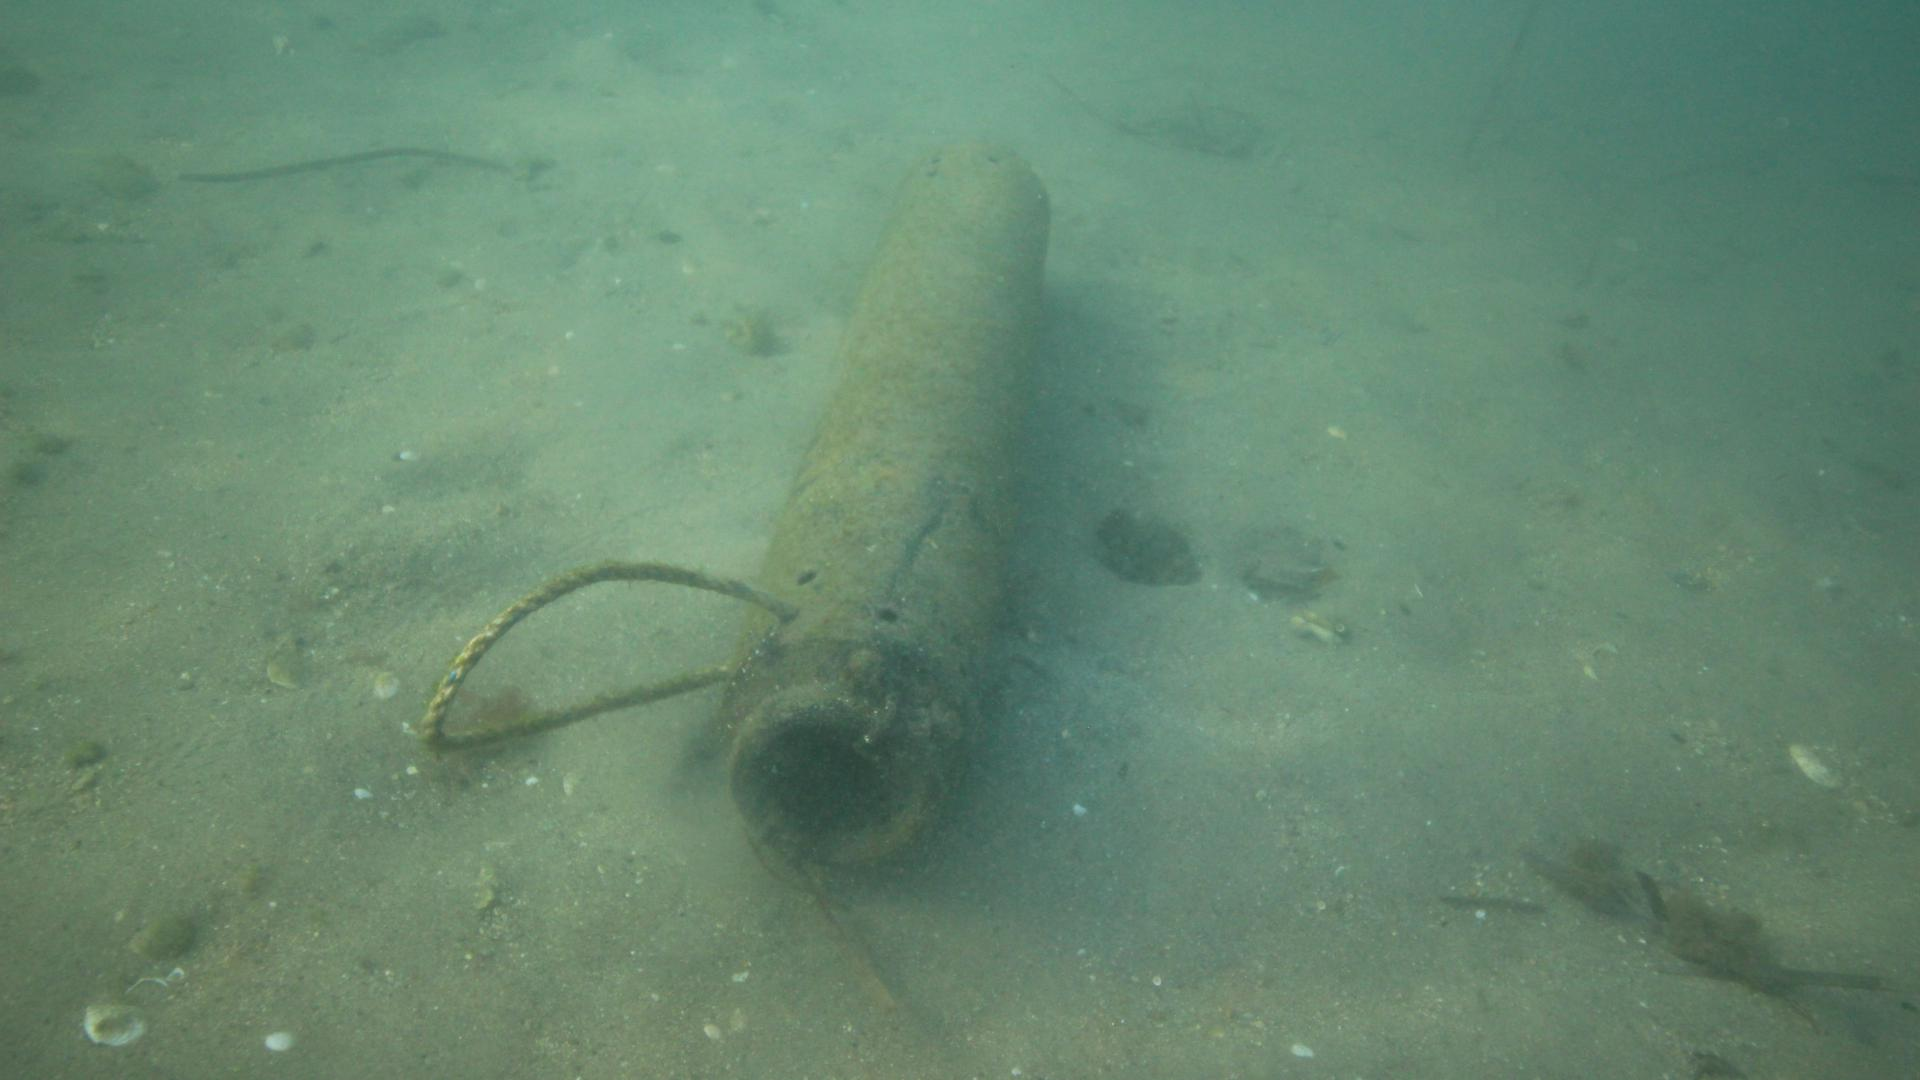eel fish trap: (717, 140, 1052, 864)
rope: (419, 560, 796, 749)
